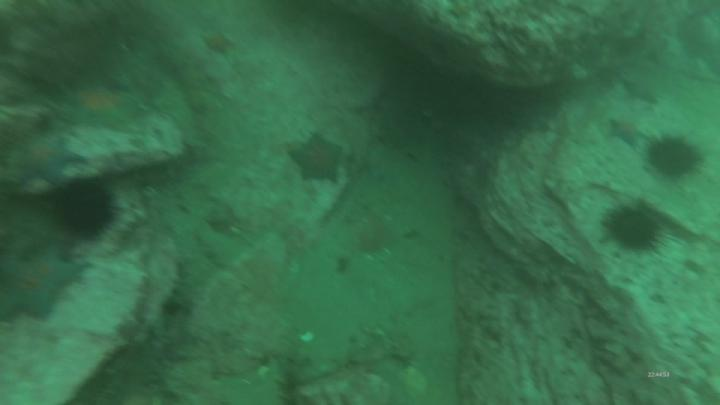echinus: (55, 174, 117, 246), (603, 200, 669, 253), (648, 132, 701, 183)
starfish: (1, 235, 90, 323), (56, 76, 139, 128), (285, 129, 352, 190), (14, 137, 87, 188), (607, 115, 653, 152), (199, 26, 239, 61), (623, 73, 664, 104)
